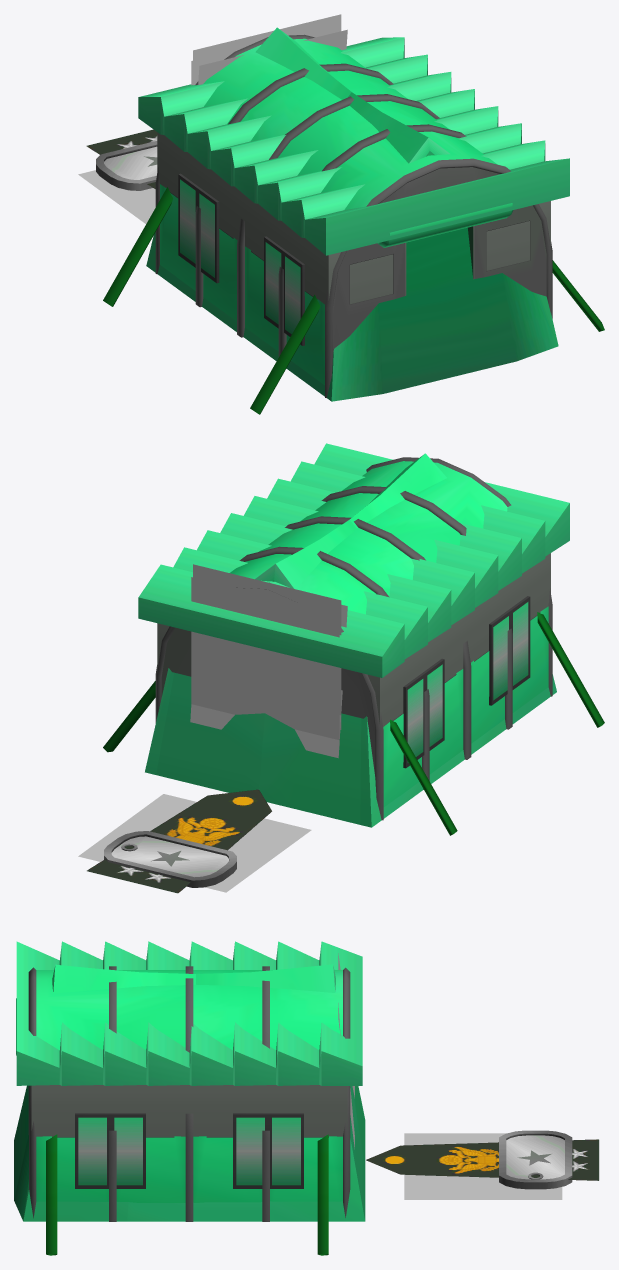
The model's file is FootSoliderTent.fbx.
The picture shows the model from 3 angles, top to bottom: view 1: azimuth 30°, elevation 25°; view 2: azimuth 150°, elevation 25°; view 3: azimuth 270°, elevation 25°; orthographic projection. The views are drawn at different scales.
Visible parts, largest first — view 1: Tent2, Tent3, Tent, AreaProgress (×3), Tag, Ranks; view 2: Tent2, Tent3, Tent, AreaProgress (×4), Ranks, Tag; view 3: Tent2, Tent3, Tent, Ranks, AreaProgress, Tag.
Part boxes in pixels (bbox=[...]): Tent2: bbox=[138, 37, 569, 345]; Tent3: bbox=[155, 34, 552, 397]; Tent: bbox=[103, 27, 604, 414]; AreaProgress (×3): bbox=[78, 14, 347, 223]; Tag: bbox=[96, 141, 157, 190]; Ranks: bbox=[86, 129, 157, 188]; Tent2: bbox=[138, 443, 569, 768]; Tent3: bbox=[155, 457, 552, 820]; Tent: bbox=[103, 453, 604, 835]; AreaProgress (×4): bbox=[78, 564, 347, 892]; Ranks: bbox=[86, 789, 271, 893]; Tag: bbox=[104, 831, 236, 887]; Tent2: bbox=[16, 941, 362, 1188]; Tent3: bbox=[28, 966, 350, 1221]; Tent: bbox=[14, 964, 365, 1255]; Ranks: bbox=[366, 1139, 599, 1180]; AreaProgress: bbox=[404, 1133, 562, 1199]; Tag: bbox=[499, 1130, 572, 1189].
Bounding box in the file's own units: 4.74 × 3.01 × 7.48.
Materials: 3 (2 with a texture image).
